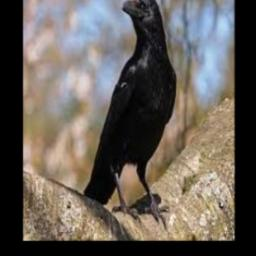Crow: (83, 0, 177, 227)
